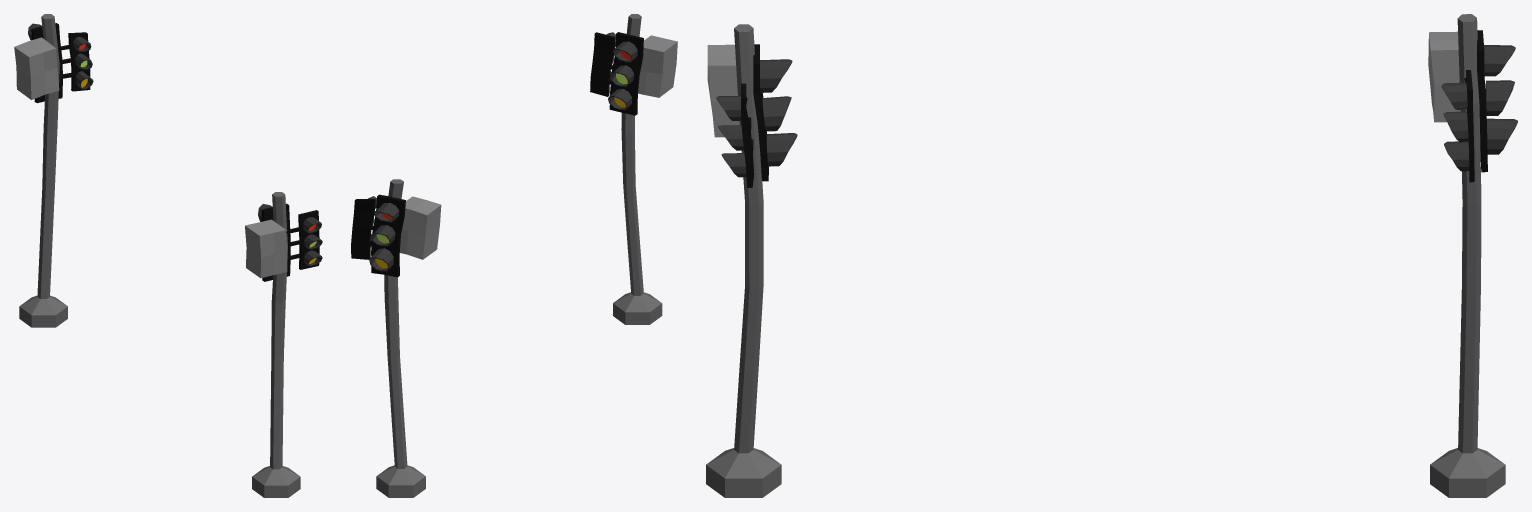
File: lampu lalulintas kecil 1.fbx
The picture shows the model from 3 angles, left to right: view 1: azimuth 30°, elevation 25°; view 2: azimuth 150°, elevation 25°; view 3: azimuth 270°, elevation 25°; orthographic projection. The views are drawn at different scales.
Parts seen in each view (by area): view 1: Cylinder.005, Cylinder.006; view 2: Cylinder.005, Cylinder.006; view 3: Cylinder.005, Cylinder.006.
Part boxes in pixels (x1=…): Cylinder.005: x1=14, y1=14, x2=93, y2=327; Cylinder.006: x1=245, y1=192, x2=322, y2=497; Cylinder.005: x1=351, y1=179, x2=441, y2=497; Cylinder.006: x1=590, y1=14, x2=677, y2=324; Cylinder.005: x1=1428, y1=14, x2=1517, y2=497; Cylinder.006: x1=706, y1=24, x2=797, y2=497.
Bounding box in the file's own units: 123 × 466 × 731.
